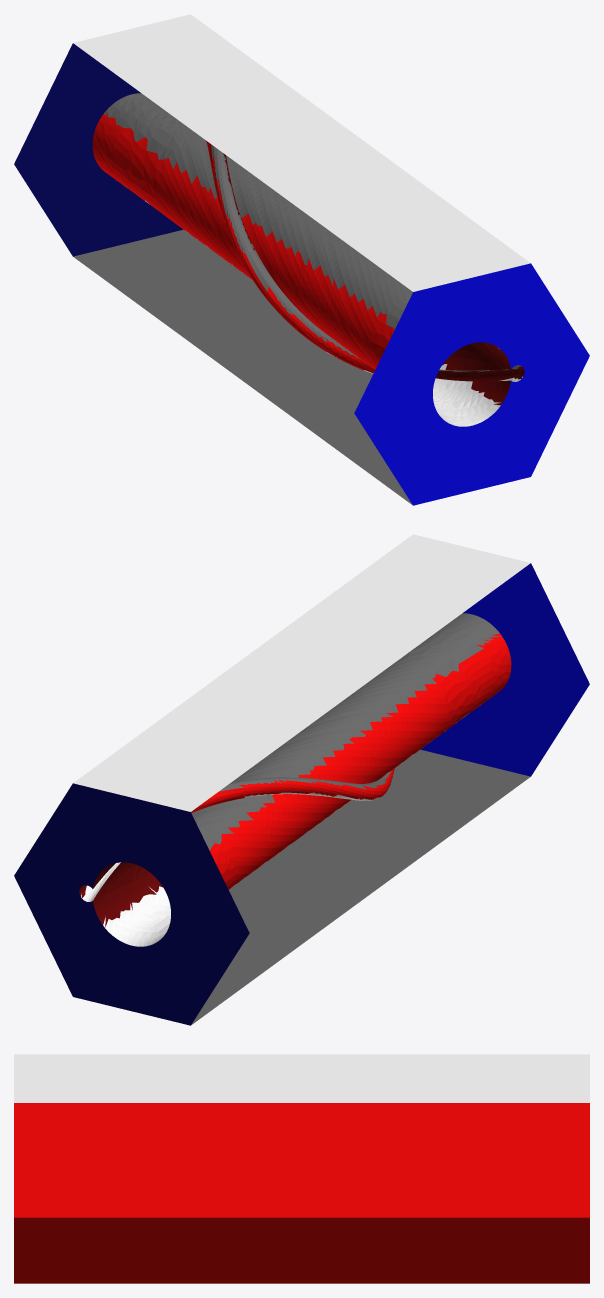
File: labeled_CAD.glb
The picture shows the model from 3 angles, top to bottom: view 1: azimuth 30°, elevation 25°; view 2: azimuth 150°, elevation 25°; view 3: azimuth 270°, elevation 25°; orthographic projection. The views are drawn at different scales.
Size of the model in its own units: 0.06 by 0.052 by 0.15.
1 material, 1 textured.
